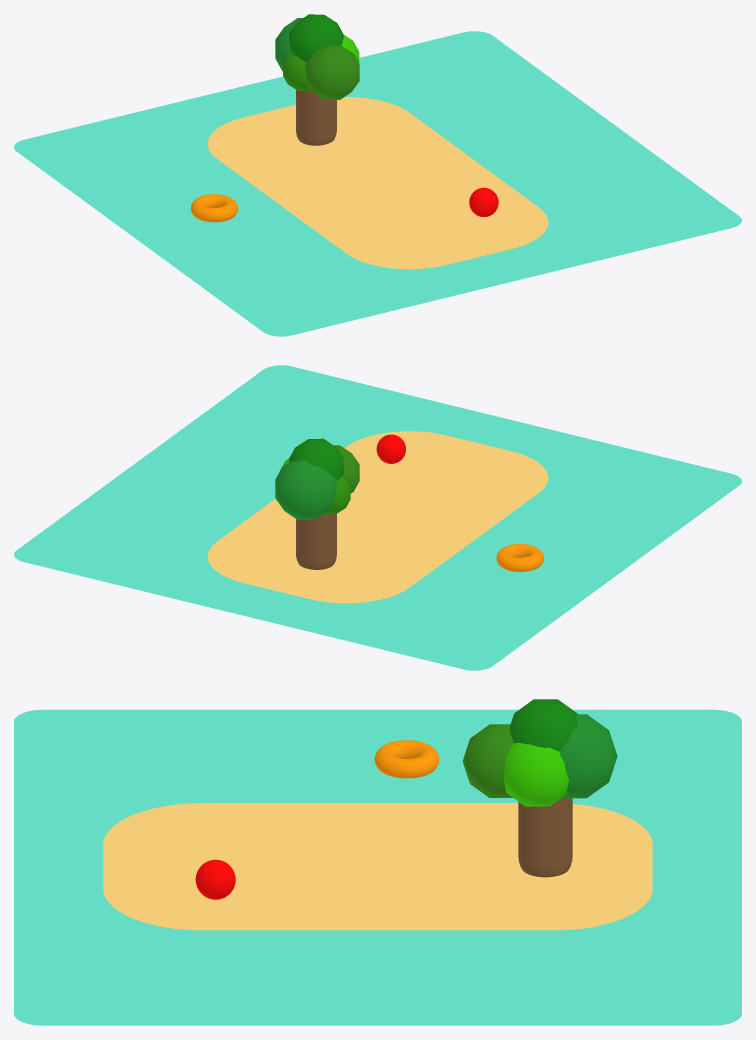
3 renders of one model, top to bottom at view 1: azimuth 30°, elevation 25°; view 2: azimuth 150°, elevation 25°; view 3: azimuth 270°, elevation 25°, orthographic. The views are drawn at different scales.
Visible parts, largest first — view 1: Plane_1, Plane, Polyhedron_1, Box, Polyhedron, Torus, Polyhedron_4, Sphere, Polyhedron_2; view 2: Plane_1, Plane, Polyhedron_2, Box, Polyhedron, Torus, Sphere, Polyhedron_1, Polyhedron_4; view 3: Plane_1, Plane, Box, Polyhedron_3, Polyhedron_2, Polyhedron_1, Polyhedron, Torus, Sphere.
Boxes of the visible parts, x1,y1,x2,y2 form: Plane_1: (14, 31, 741, 336); Plane: (207, 97, 548, 269); Polyhedron_1: (305, 45, 359, 99); Box: (296, 90, 336, 145); Polyhedron: (289, 14, 343, 61); Torus: (190, 194, 238, 222); Polyhedron_4: (283, 54, 310, 90); Sphere: (469, 187, 498, 216); Polyhedron_2: (275, 18, 302, 71); Plane_1: (14, 365, 741, 670); Plane: (207, 431, 548, 603); Polyhedron_2: (275, 460, 337, 519); Box: (296, 514, 336, 569); Polyhedron: (289, 438, 343, 479); Torus: (496, 544, 543, 571); Sphere: (376, 434, 405, 463); Polyhedron_1: (334, 445, 359, 493); Polyhedron_4: (324, 476, 350, 514); Plane_1: (14, 709, 741, 1025); Plane: (103, 803, 652, 930); Box: (518, 798, 572, 877); Polyhedron_3: (503, 742, 568, 806); Polyhedron_2: (559, 714, 617, 798); Polyhedron_1: (462, 724, 513, 797); Polyhedron: (510, 699, 577, 751); Torus: (374, 740, 439, 778); Sphere: (195, 859, 235, 899).
Size of the model in its own units: 299 by 79.15 by 291.
